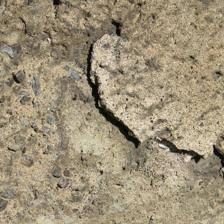Crack: (43, 16, 180, 139)
